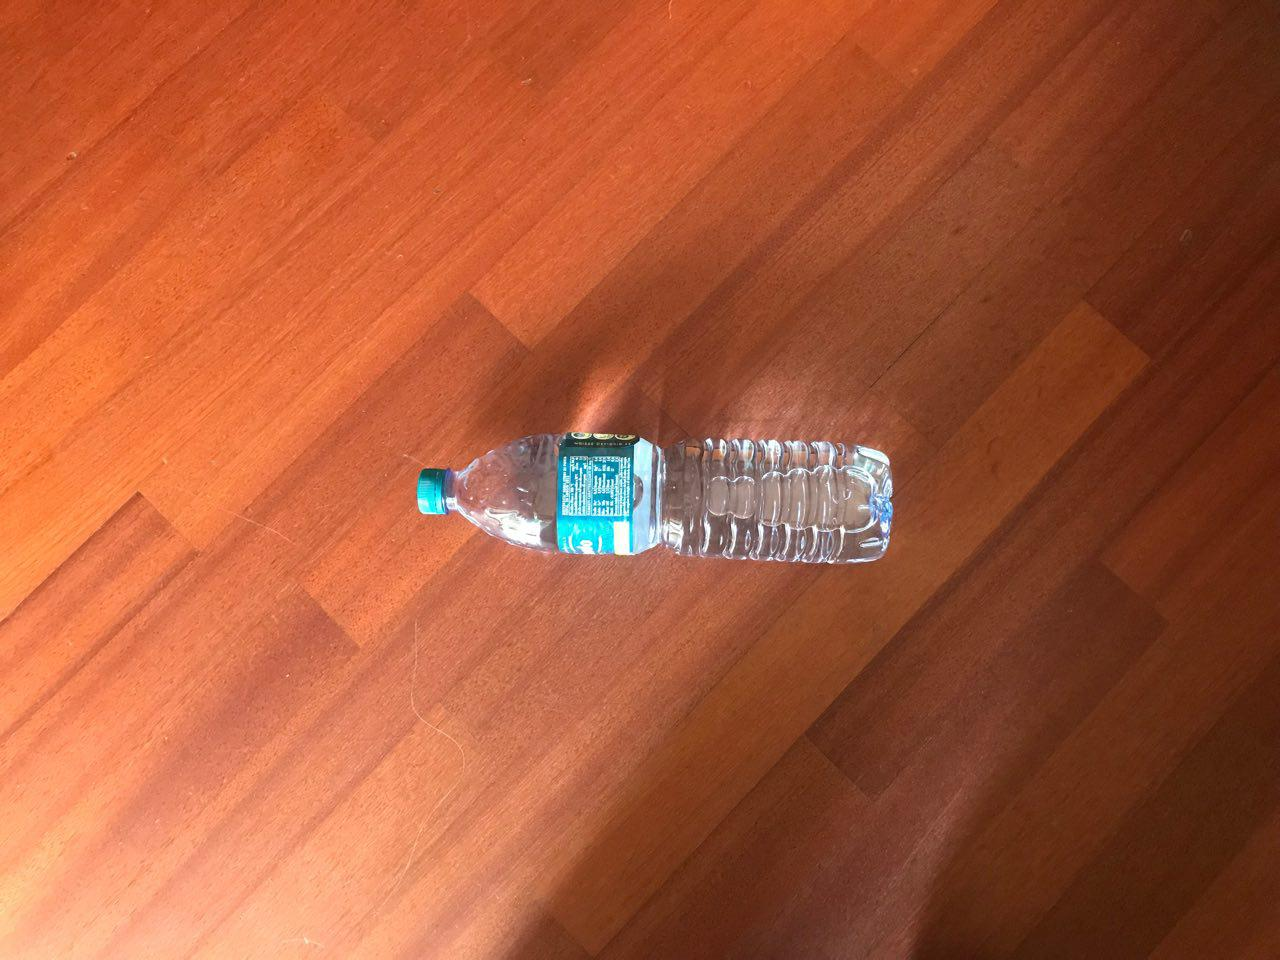san_bernardo: (415, 431, 894, 567)
